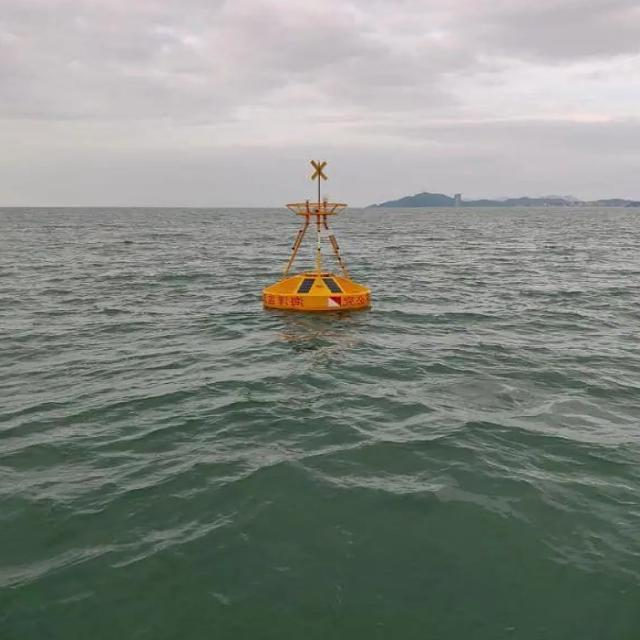buoy: (260, 150, 370, 310)
